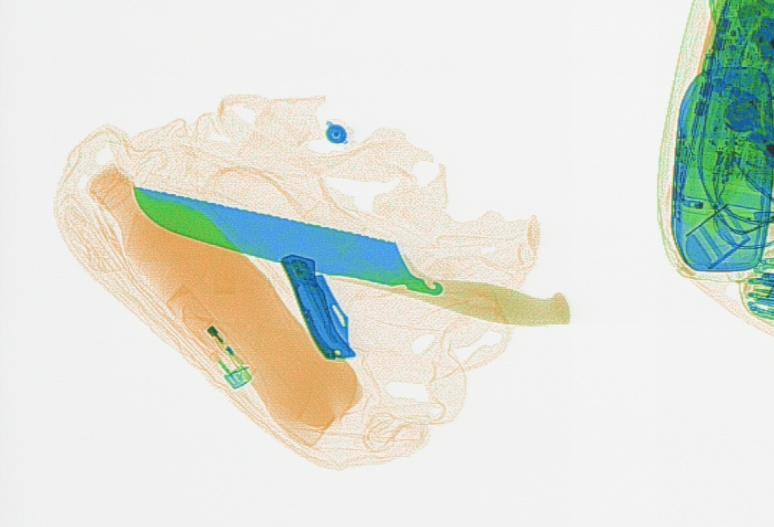knife: (129, 183, 571, 326), (276, 249, 358, 363)
lighter: (159, 280, 258, 391)
